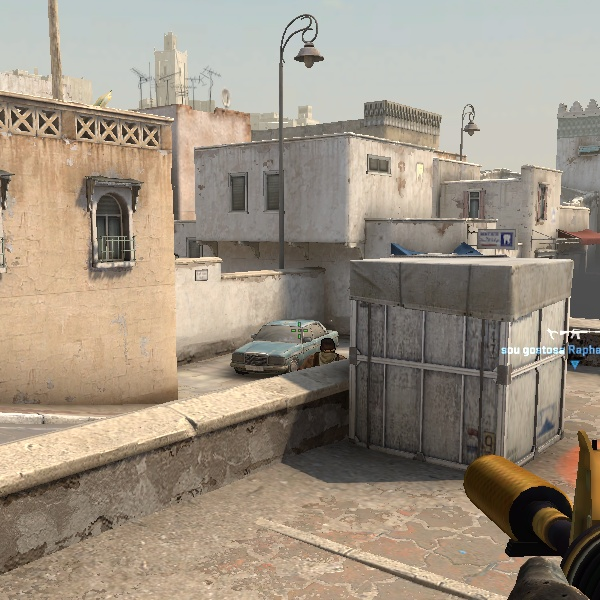ct_body: (302, 331, 348, 366)
ct_head: (306, 331, 344, 362)
